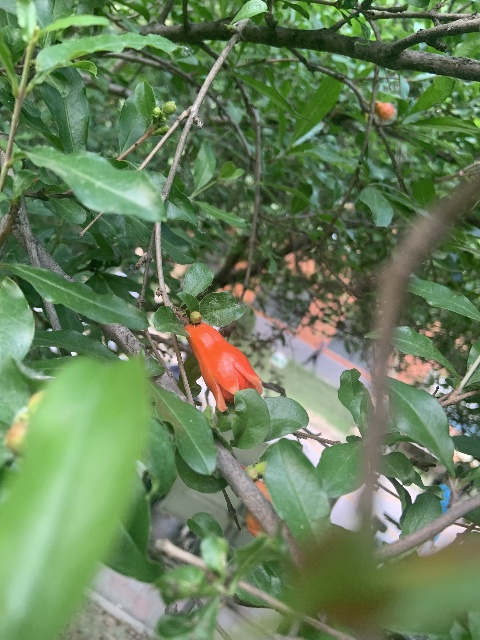bud: (374, 101, 394, 120)
flower: (185, 321, 263, 411)
